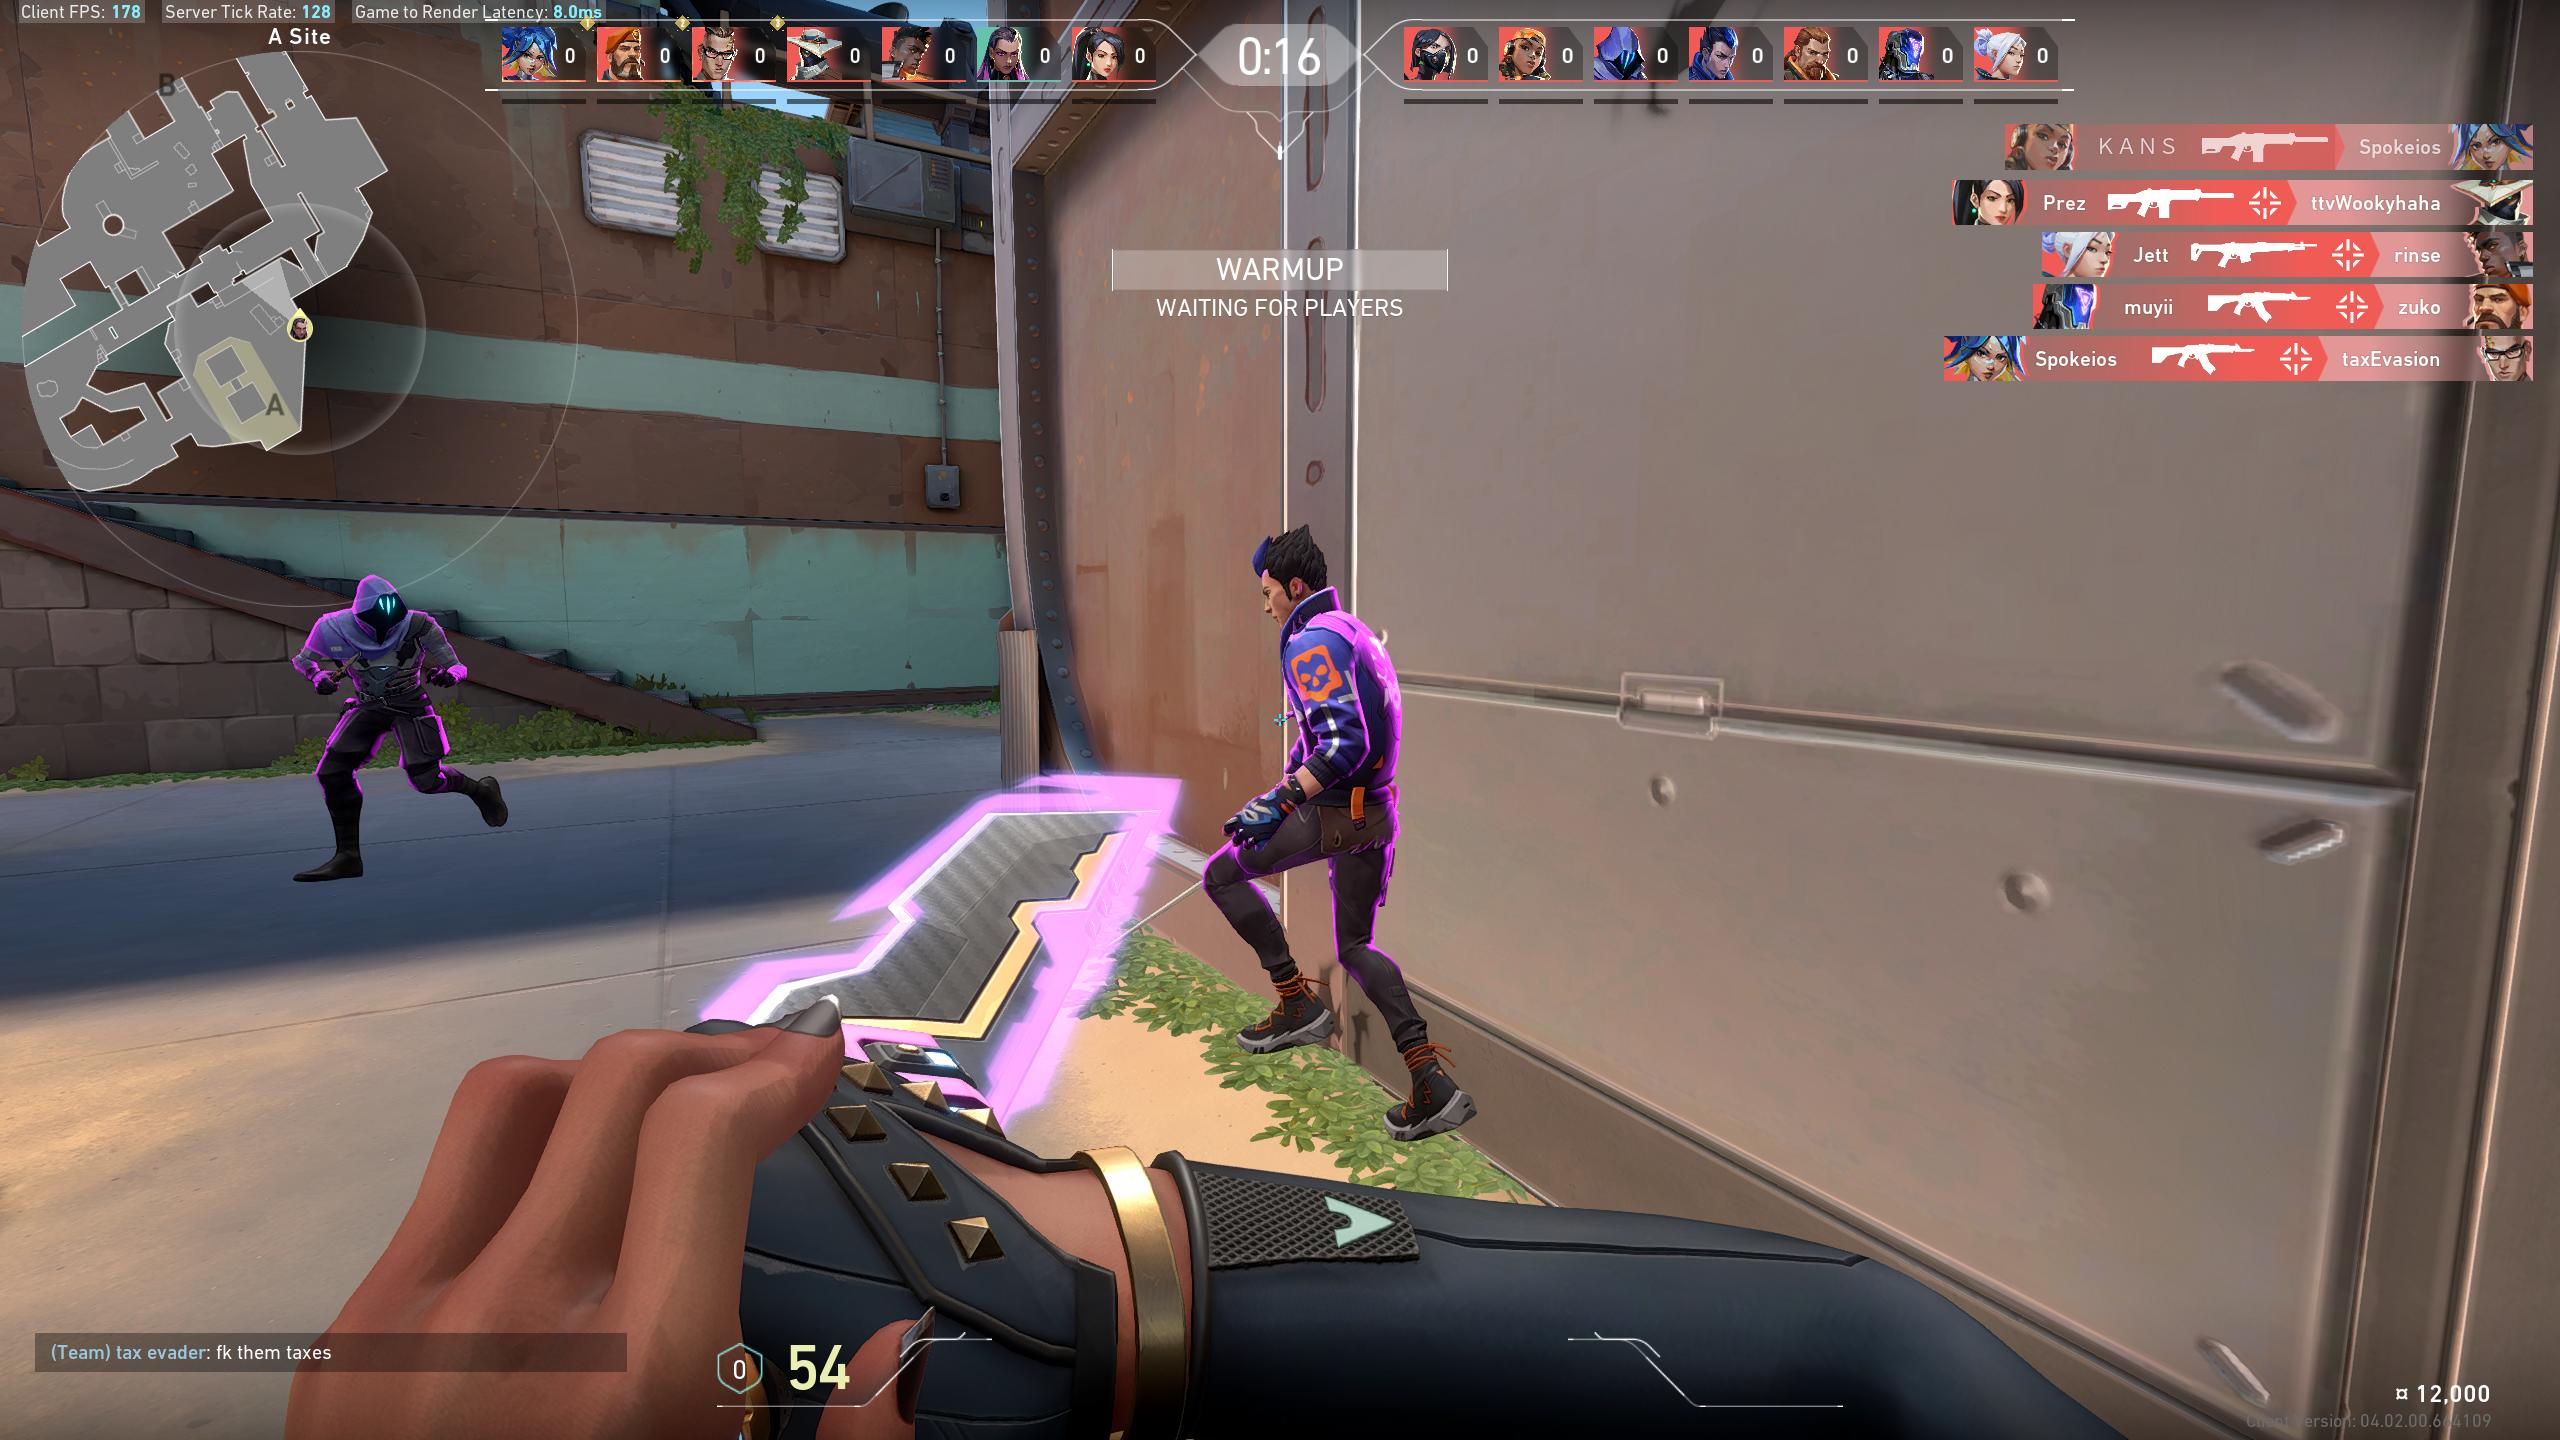enemyBody: (1298, 635, 1373, 795), (359, 636, 406, 714)
enemyHead: (1276, 540, 1317, 621), (369, 593, 396, 622)
